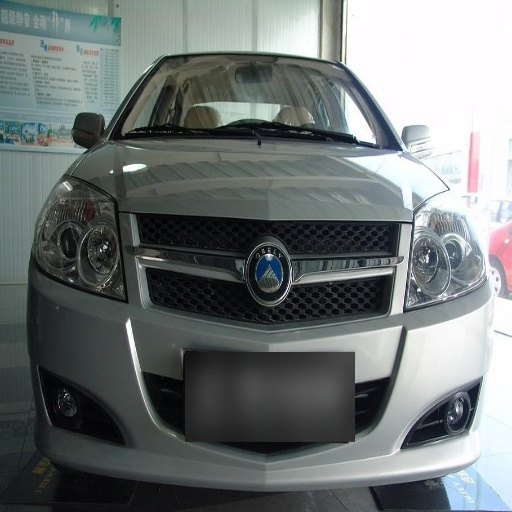front_bumper: (33, 211, 509, 492)
front_right_light: (34, 179, 128, 301)
hood: (74, 142, 448, 221)
